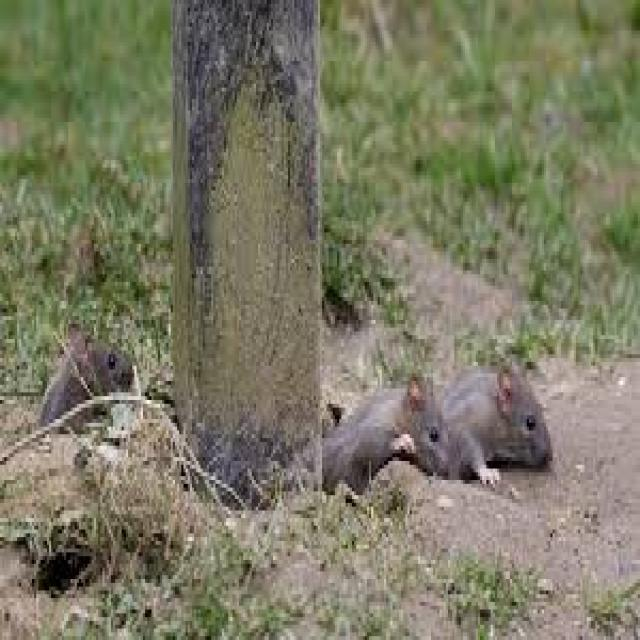Rat: (334, 294, 572, 496), (19, 291, 134, 428)
